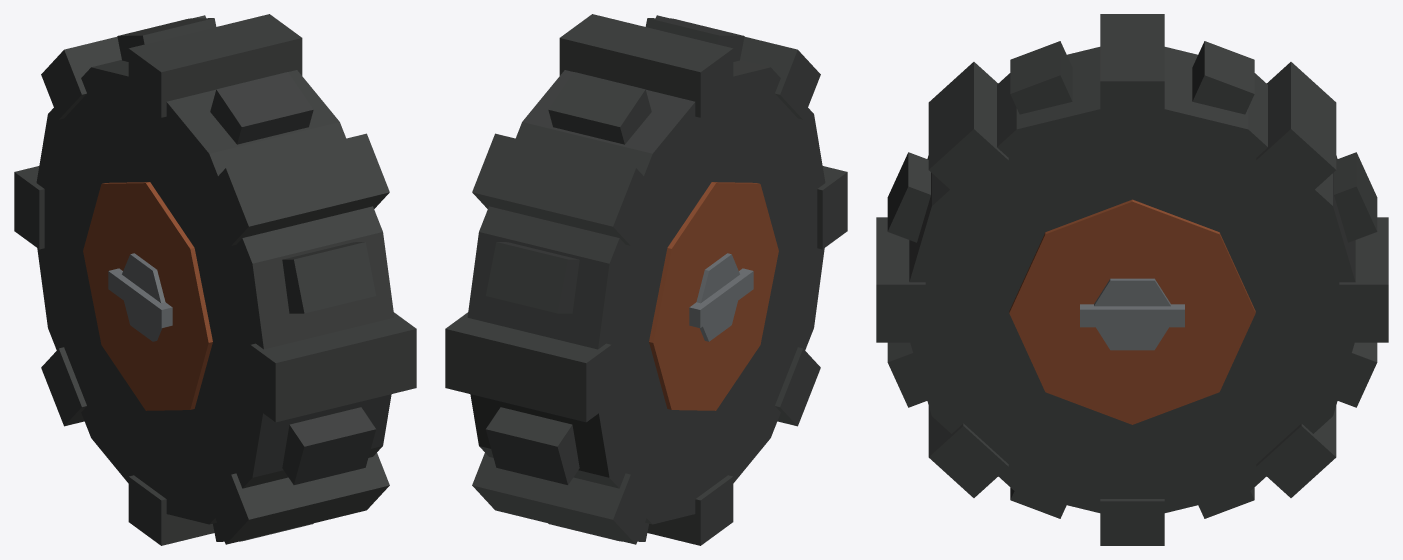
File: upg_tyres_offroad.glb
The picture shows the model from 3 angles, left to right: view 1: azimuth 30°, elevation 25°; view 2: azimuth 150°, elevation 25°; view 3: azimuth 270°, elevation 25°; orthographic projection.
Visible parts, largest first — view 1: tyre; view 2: tyre; view 3: tyre.
Part boxes in pixels (x1,y1,x2,y2): tyre: (14,14,416,545); tyre: (445,14,847,545); tyre: (876,14,1388,545).
Bounding box in the file's own units: 0.37 × 1.04 × 1.04.
